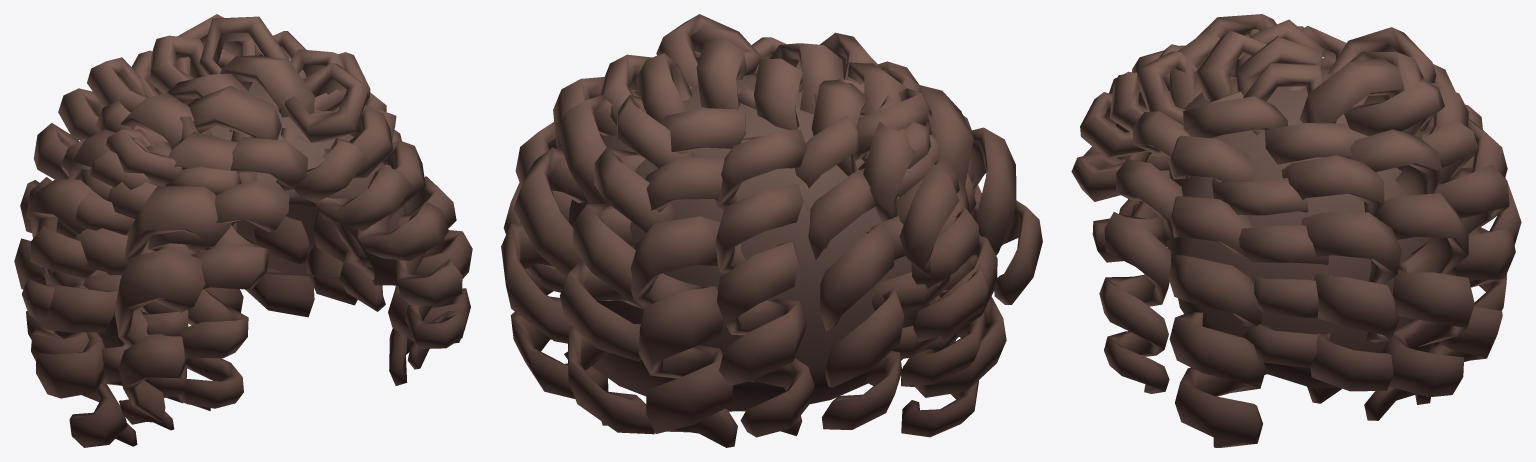
The model's file is Hairstyle_Female_10.glb.
3 views of the same model, side by side, from view 1: azimuth 30°, elevation 25°; view 2: azimuth 150°, elevation 25°; view 3: azimuth 270°, elevation 25° (orthographic). The views are drawn at different scales.
Parts seen in each view (by area): view 1: Hairstyle_Female_10; view 2: Hairstyle_Female_10; view 3: Hairstyle_Female_10.
Boxes of the visible parts, bbox=[...] form: Hairstyle_Female_10: bbox=[14, 14, 472, 447]; Hairstyle_Female_10: bbox=[501, 14, 1042, 447]; Hairstyle_Female_10: bbox=[1071, 14, 1521, 447].
Bounding box in the file's own units: 0.8433 × 0.6728 × 0.7805.
Materials: 1 (1 with a texture image).
